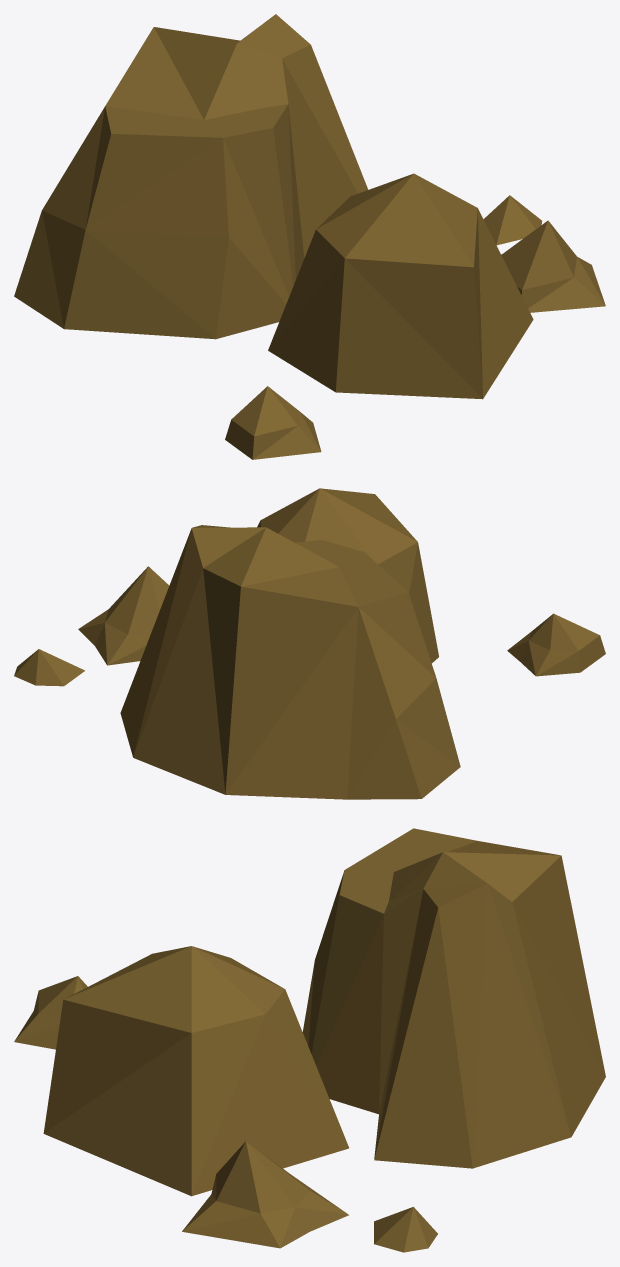
Rendered from obj_rock_4_0.obj.
3 views of the same model, one above another, from view 1: azimuth 30°, elevation 25°; view 2: azimuth 150°, elevation 25°; view 3: azimuth 270°, elevation 25° (orthographic). The views are drawn at different scales.
Bounding box in the file's own units: 0.9453 × 0.4375 × 0.9375.
